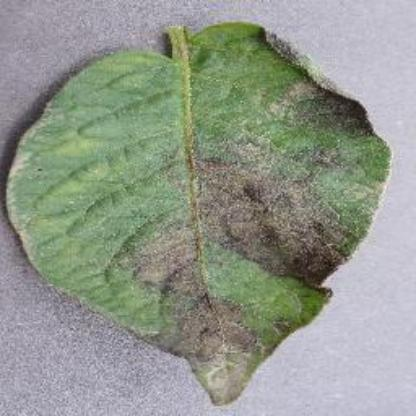Late-Blight: (7, 21, 397, 401)
